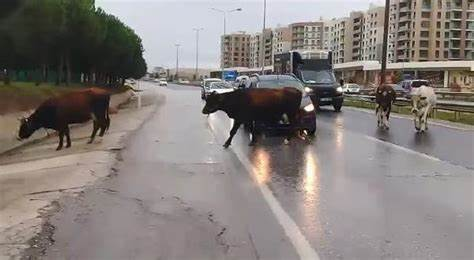inek: (203, 86, 326, 147), (9, 84, 119, 151), (407, 86, 445, 134), (368, 82, 399, 134)
